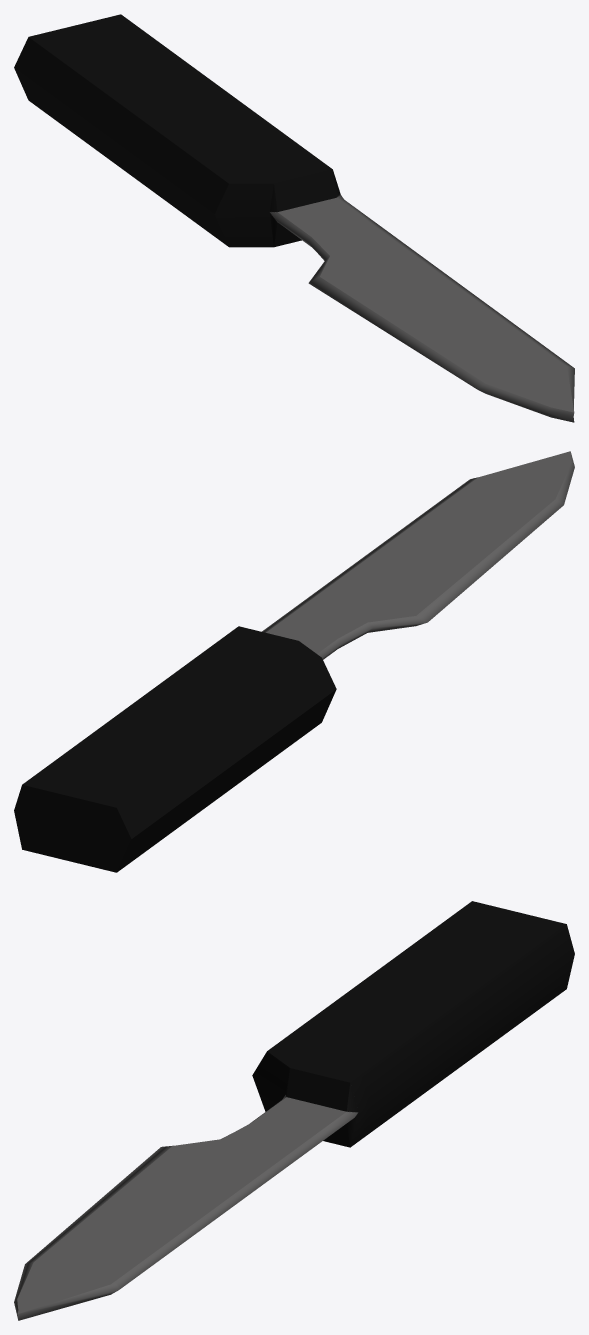
File: knife.FBX
3 views of the same model, one above another, from view 1: azimuth 30°, elevation 25°; view 2: azimuth 150°, elevation 25°; view 3: azimuth 330°, elevation 25° (orthographic). The views are drawn at different scales.
Parts seen in each view (by area): view 1: Box001; view 2: Box001; view 3: Box001.
Part boxes in pixels (<box>): Box001: <box>14,14,574,422</box>; Box001: <box>14,451,574,872</box>; Box001: <box>14,901,574,1320</box>.
Size of the model in its own units: 5.2 by 2.75 by 38.77.
Materials: 1 (1 with a texture image).
